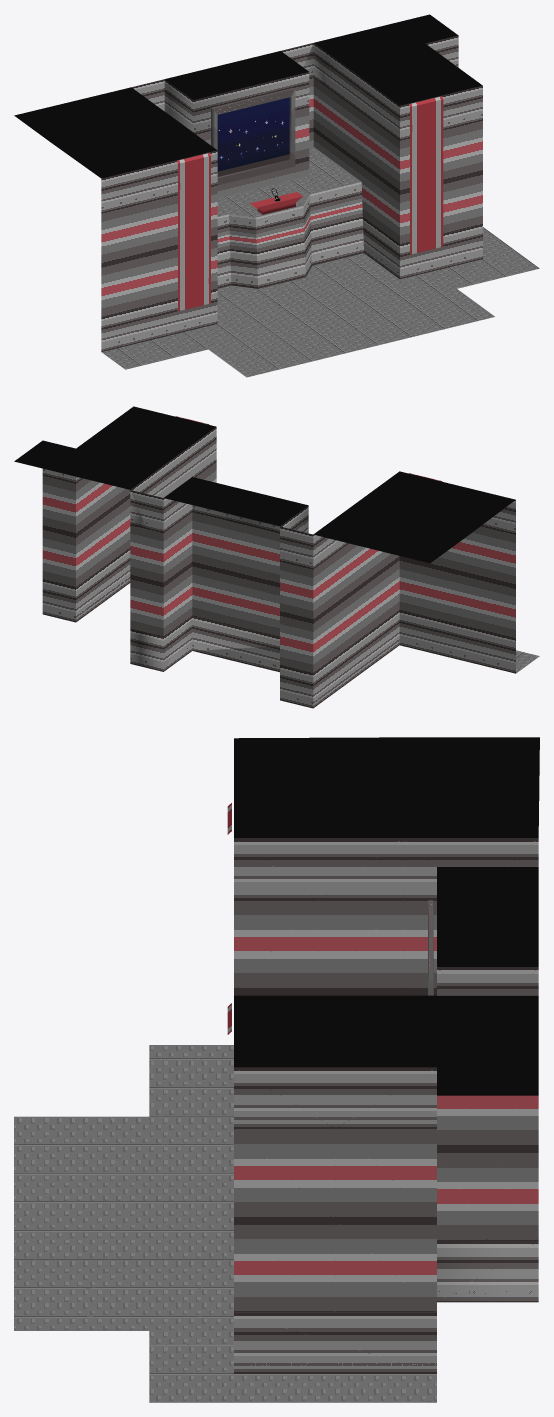
File: GALHQ15-3.obj
The picture shows the model from 3 angles, top to bottom: view 1: azimuth 30°, elevation 25°; view 2: azimuth 150°, elevation 25°; view 3: azimuth 270°, elevation 25°; orthographic projection. The views are drawn at different scales.
Parts seen in each view (by area): view 1: m_dun2609_00_00c; view 2: m_dun2609_00_00c; view 3: m_dun2609_00_00c.
Boxes of the visible parts, <box> form: m_dun2609_00_00c: <box>14,14,539,377</box>; m_dun2609_00_00c: <box>14,406,539,708</box>; m_dun2609_00_00c: <box>14,737,539,1402</box>.
Bounding box in the file's own units: 401 × 160 × 249.
